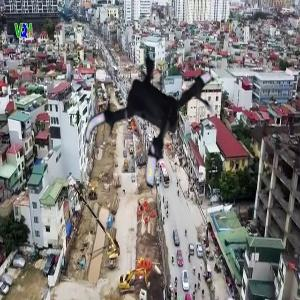drone: (78, 32, 237, 191)
